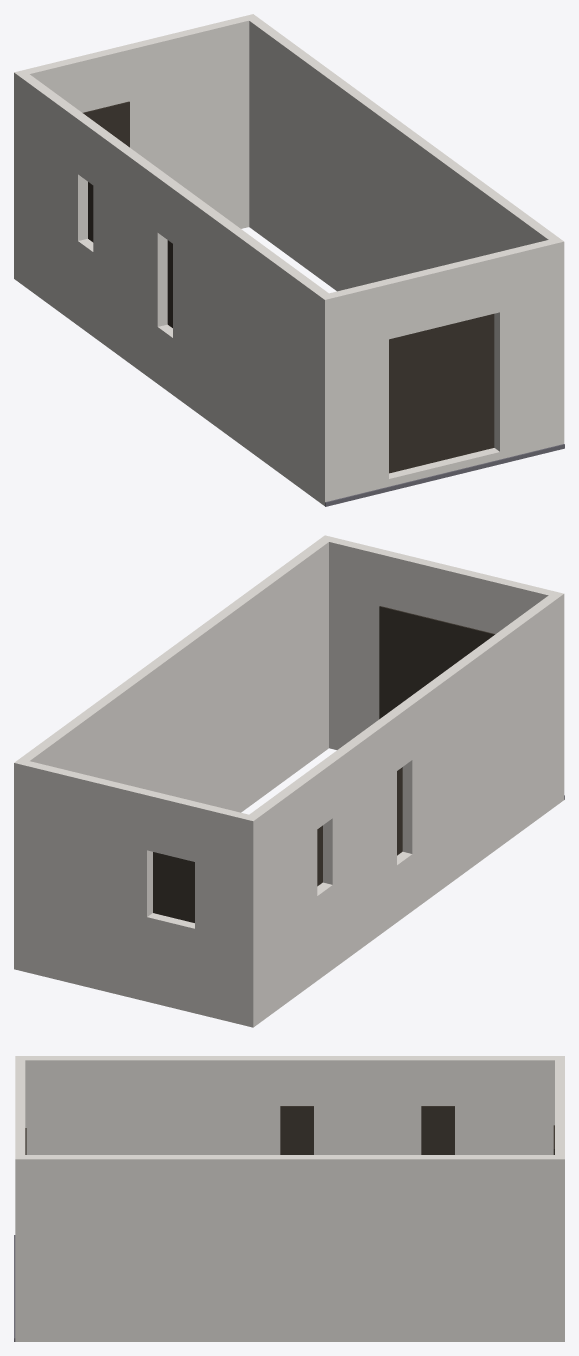
Rendered from SM_Floor_NarrowUpperBalconyEndL_White_364_Back_01.gltf.
3 views of the same model, one above another, from view 1: azimuth 30°, elevation 25°; view 2: azimuth 150°, elevation 25°; view 3: azimuth 270°, elevation 25° (orthographic). The views are drawn at different scales.
Visible parts, largest first — view 1: SM_Floor_NarrowUpperBalconyEndL_White_364_Back_01; view 2: SM_Floor_NarrowUpperBalconyEndL_White_364_Back_01; view 3: SM_Floor_NarrowUpperBalconyEndL_White_364_Back_01.
Boxes of the visible parts, x1,y1,x2,y2 form: SM_Floor_NarrowUpperBalconyEndL_White_364_Back_01: (14, 14, 564, 506); SM_Floor_NarrowUpperBalconyEndL_White_364_Back_01: (14, 535, 564, 1027); SM_Floor_NarrowUpperBalconyEndL_White_364_Back_01: (14, 1056, 564, 1341).
Bounding box in the file's own units: 3.64 × 3 × 8.21.
Materials: 1 (1 with a texture image).
